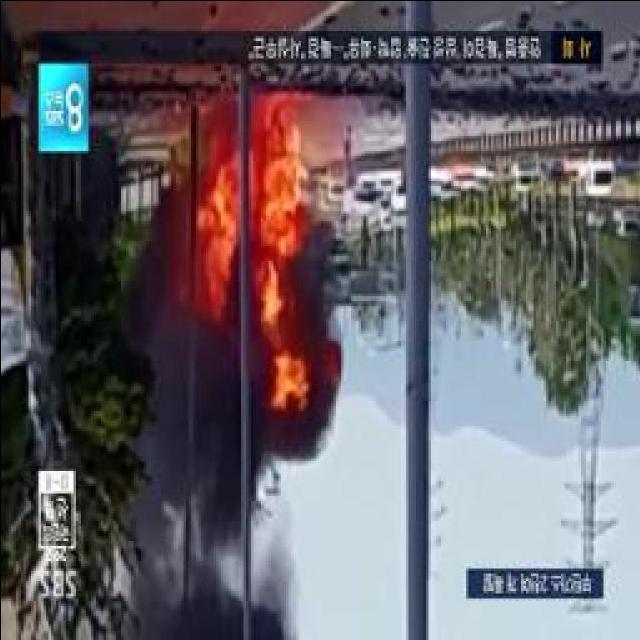Fire: (205, 89, 304, 220)
